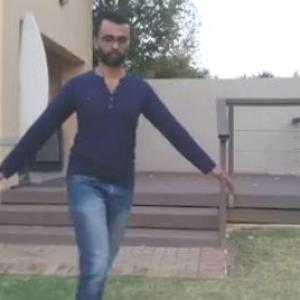land: (1, 11, 223, 299)
